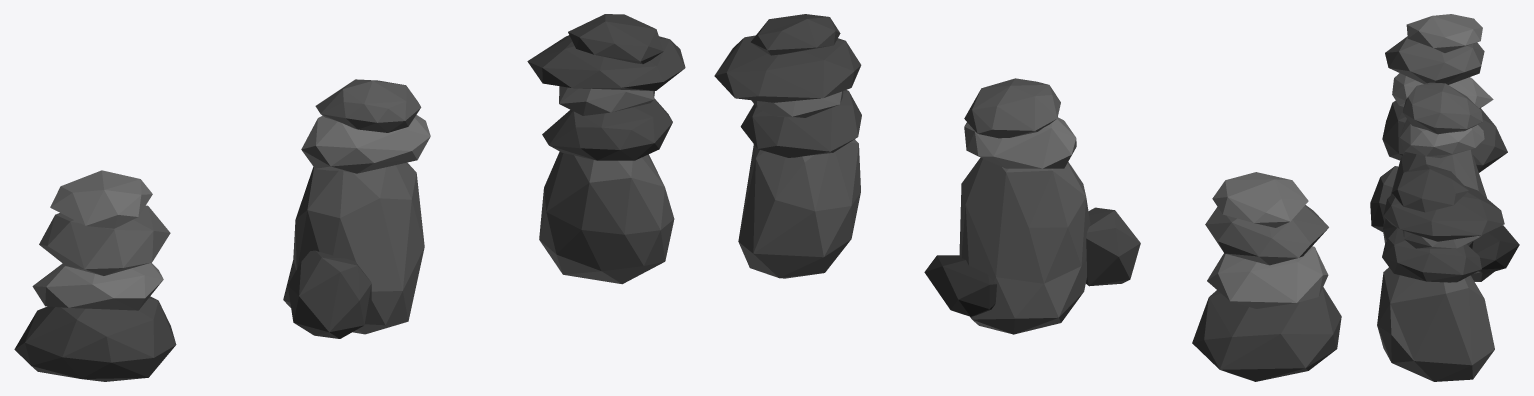
The model's file is rocks-apachetas.fbx.
The picture shows the model from 3 angles, left to right: view 1: azimuth 30°, elevation 25°; view 2: azimuth 150°, elevation 25°; view 3: azimuth 270°, elevation 25°; orthographic projection. The views are drawn at different scales.
Visible parts, largest first — view 1: apachetas-3, apachetas-2, apachetas-1; view 2: apachetas-2, apachetas-3, apachetas-1; view 3: apachetas-3, apachetas-2, apachetas-1.
Boxes of the visible parts, left/top/right/bottom form: apachetas-3: left=527, top=14, right=685, bottom=284; apachetas-2: left=283, top=79, right=430, bottom=338; apachetas-1: left=14, top=170, right=176, bottom=381; apachetas-2: left=924, top=78, right=1140, bottom=334; apachetas-3: left=714, top=14, right=861, bottom=278; apachetas-1: left=1192, top=172, right=1341, bottom=381; apachetas-3: left=1377, top=164, right=1504, bottom=381; apachetas-2: left=1370, top=82, right=1519, bottom=281; apachetas-1: left=1382, top=14, right=1507, bottom=172.
Size of the model in its own units: 820 by 322 by 210.
